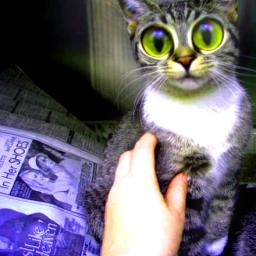catnose: (175, 54, 197, 70)
